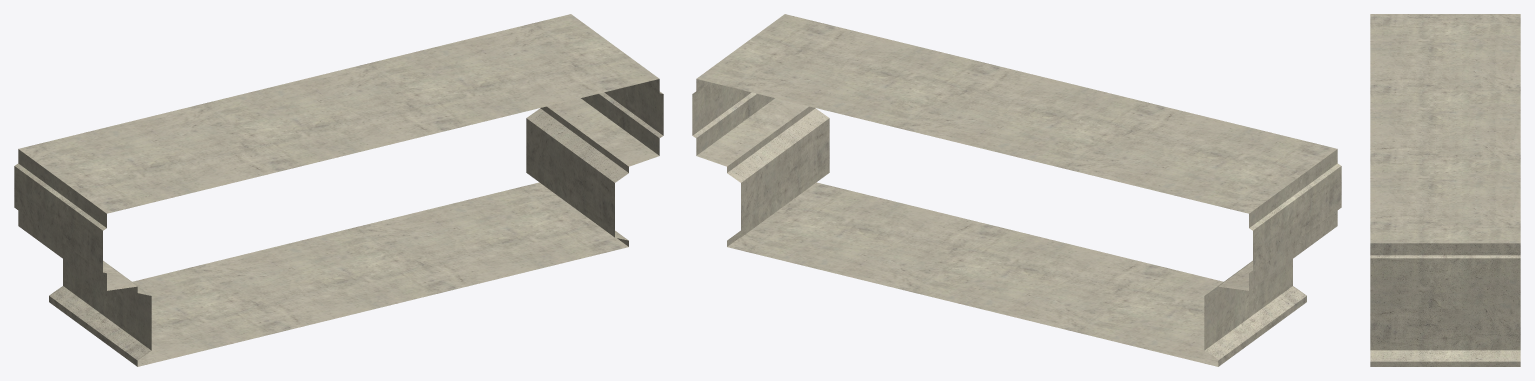
Rendered from BridgeBase9-2L.FBX.
3 renders of one model, left to right at view 1: azimuth 30°, elevation 25°; view 2: azimuth 150°, elevation 25°; view 3: azimuth 270°, elevation 25°, orthographic. The views are drawn at different scales.
Visible parts, largest first — view 1: BridgeBase9-2L; view 2: BridgeBase9-2L; view 3: BridgeBase9-2L.
Boxes of the visible parts, x1=… form: BridgeBase9-2L: x1=14, y1=14, x2=663, y2=366; BridgeBase9-2L: x1=692, y1=14, x2=1341, y2=366; BridgeBase9-2L: x1=1370, y1=14, x2=1520, y2=366.
Bounding box in the file's own units: 18.25 × 5 × 5.
